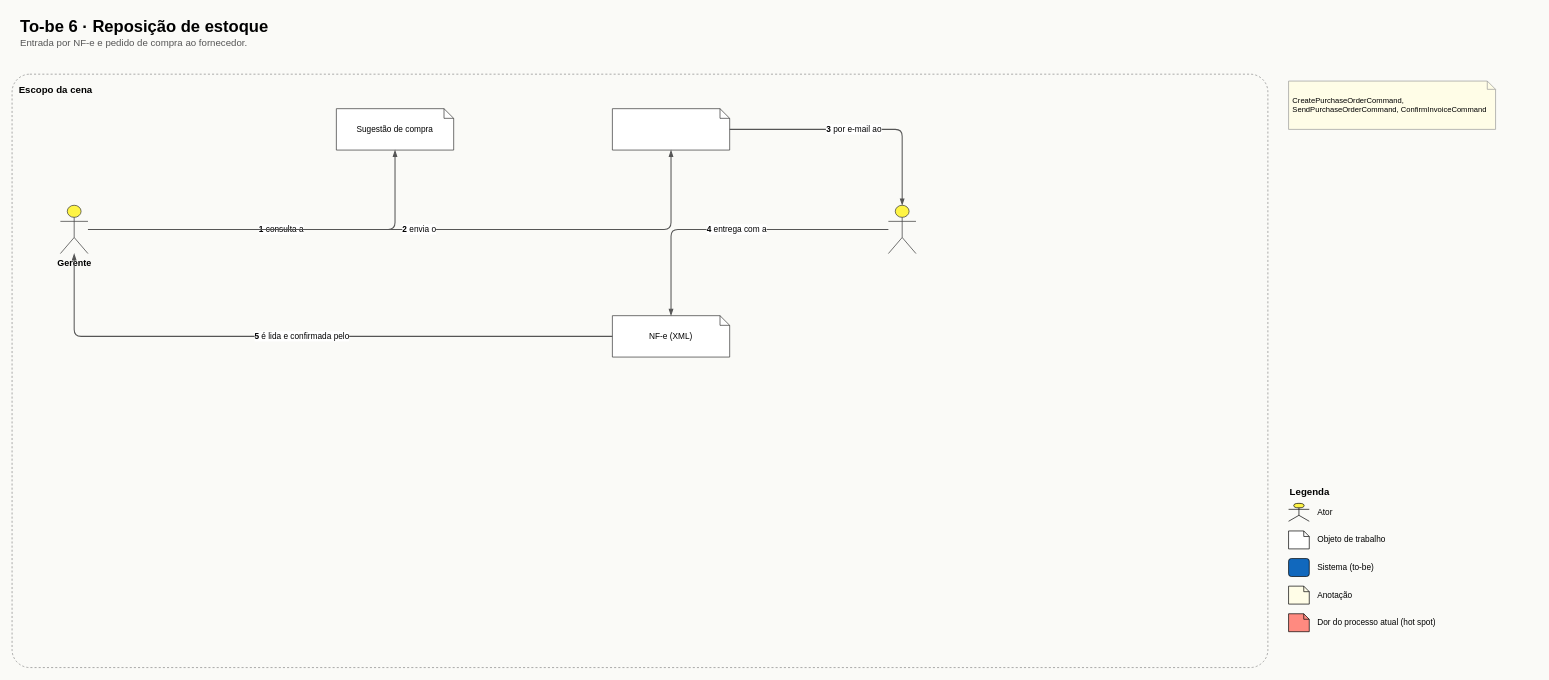
Some shapes in this 1549 by 680 pixel diagram are drawn without their labels. The box of each missing label's shape, as (x1, y1, x2, y2) in pixels:
Fornecedor: (888, 205, 916, 254)
Pedido de compra: (612, 108, 730, 150)
